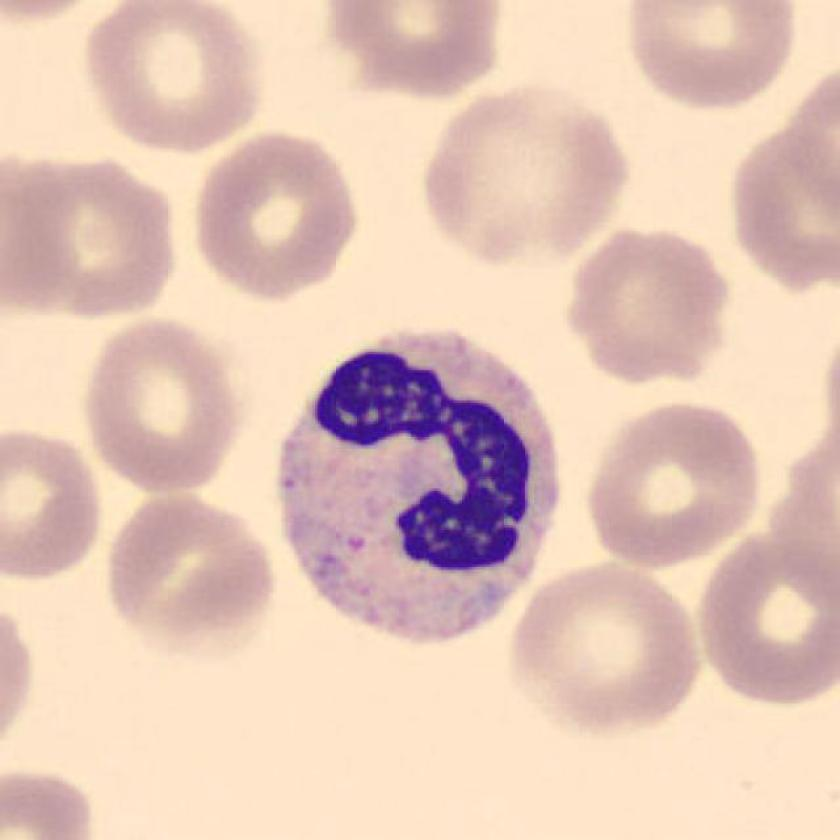neutrophil: (281, 329, 559, 644)
